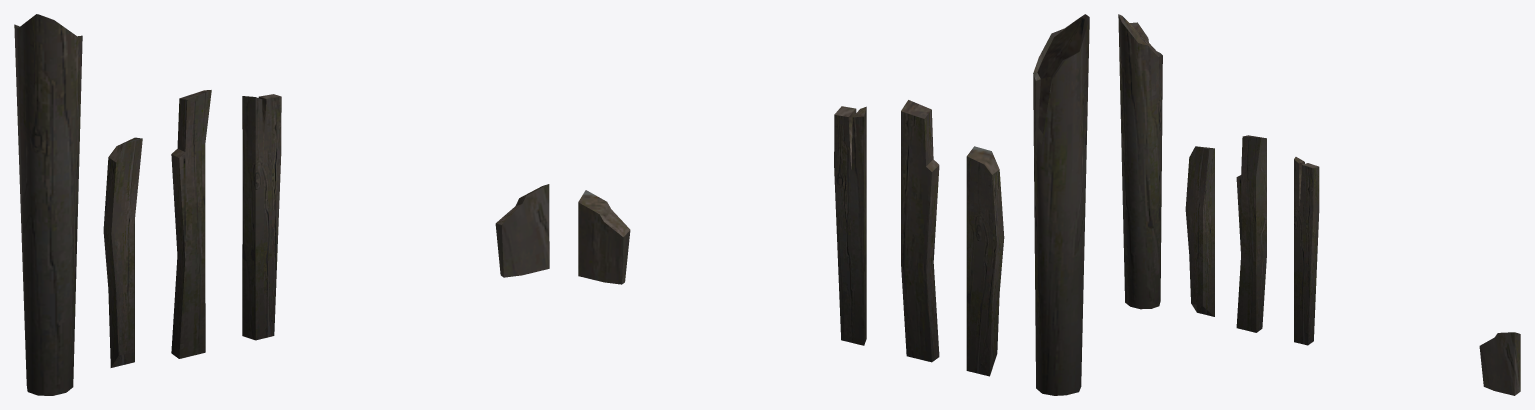
The model's file is wood_fence001d.fbx.
3 views of the same model, side by side, from view 1: azimuth 30°, elevation 25°; view 2: azimuth 150°, elevation 25°; view 3: azimuth 330°, elevation 25° (orthographic). The views are drawn at different scales.
Visible parts, largest first — view 1: wood_fence001d; view 2: wood_fence001d; view 3: wood_fence001d.
Part boxes in pixels (x1=…): wood_fence001d: x1=14, y1=14, x2=549, y2=395; wood_fence001d: x1=578, y1=14, x2=1089, y2=395; wood_fence001d: x1=1118, y1=14, x2=1520, y2=395.
Size of the model in its own units: 264 by 186 by 29.95.
